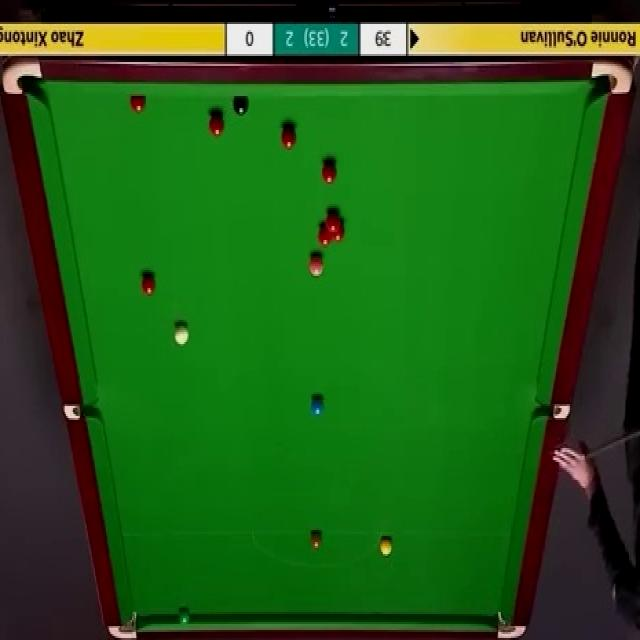black-ball: (233, 97, 250, 117)
blue-ball: (310, 396, 325, 418)
brown-ball: (309, 529, 323, 552)
green-ball: (177, 610, 190, 626)
pink-ball: (309, 255, 324, 281)
red-ball: (281, 123, 297, 151), (208, 112, 225, 138), (321, 160, 336, 185), (141, 274, 155, 296), (129, 95, 145, 114), (326, 210, 339, 232), (318, 225, 331, 247), (332, 228, 344, 241)
white-ball: (172, 322, 190, 346)
yellow-ball: (380, 537, 393, 557)
